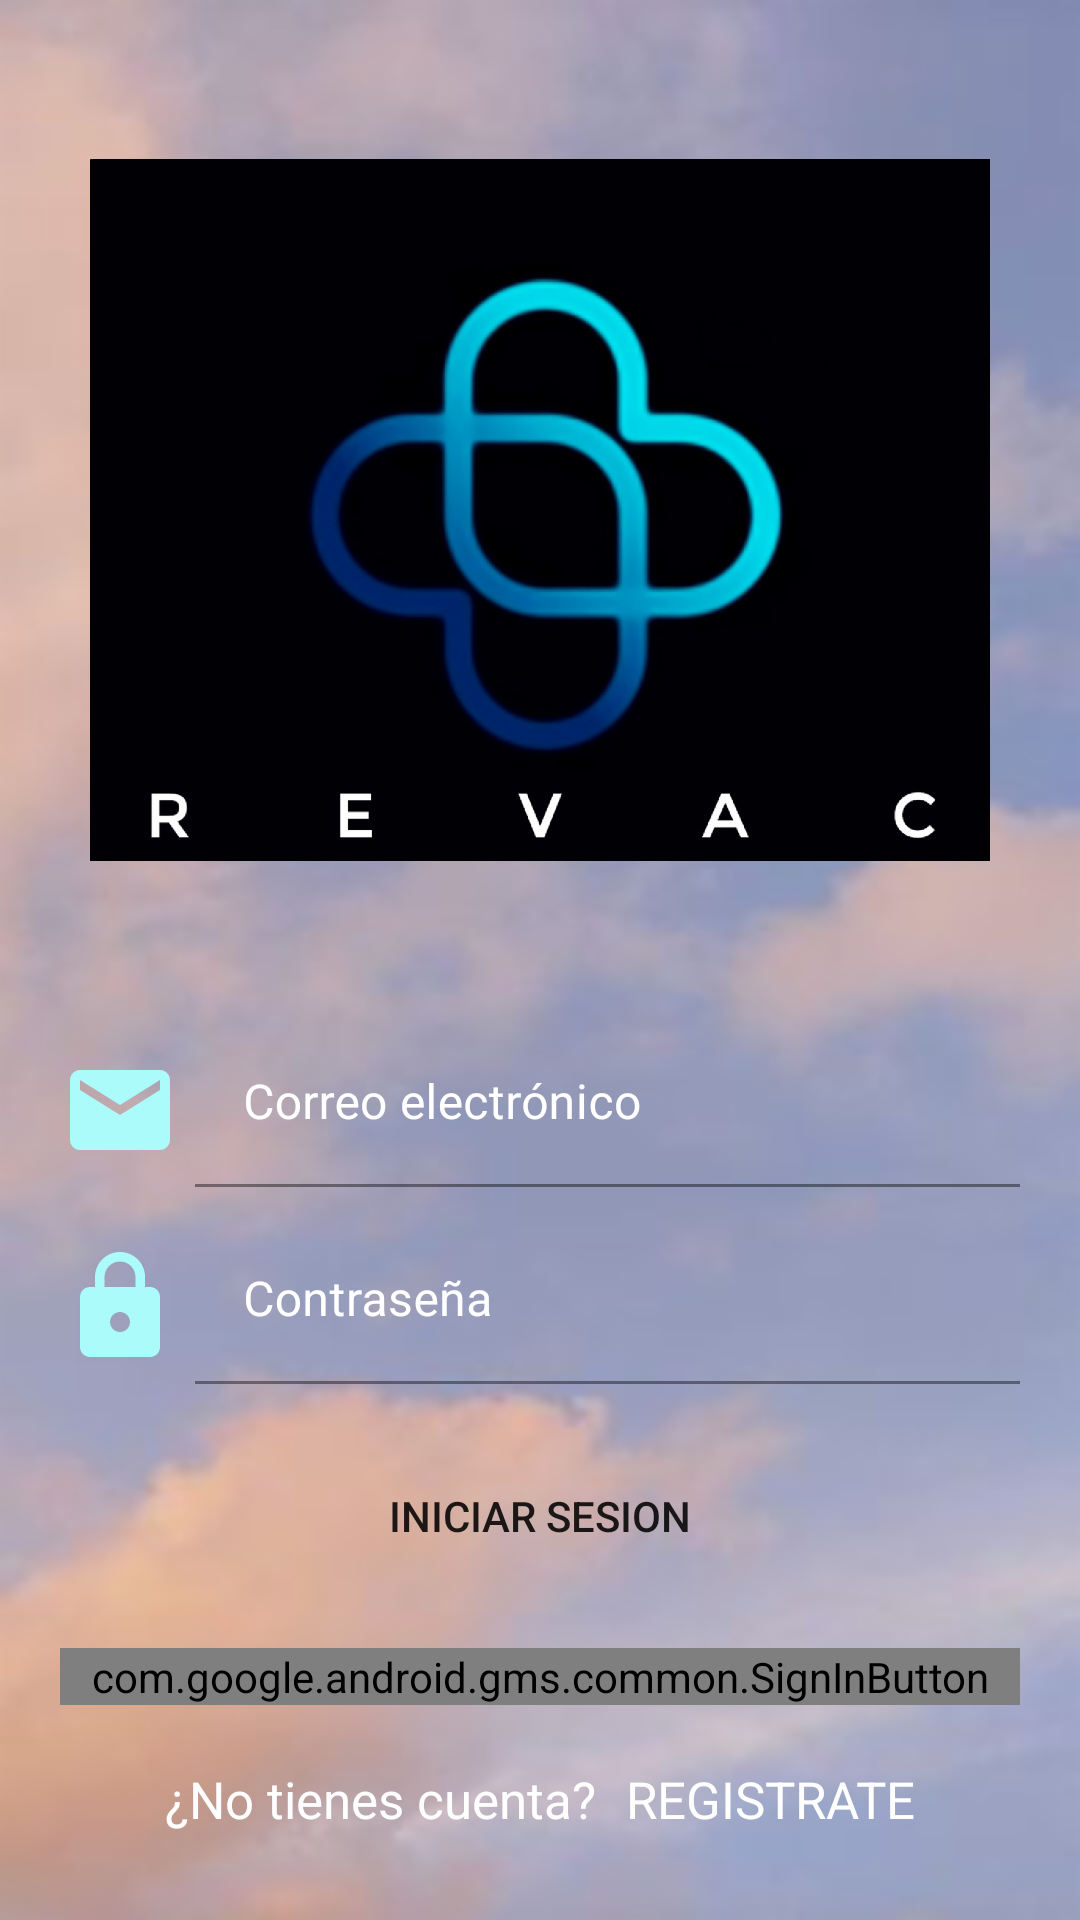

Named icons in this screenshot (1080w x 1920h) and their centers, (x=x, y=y):
email: (x=120, y=1101)
password: (x=120, y=1304)
